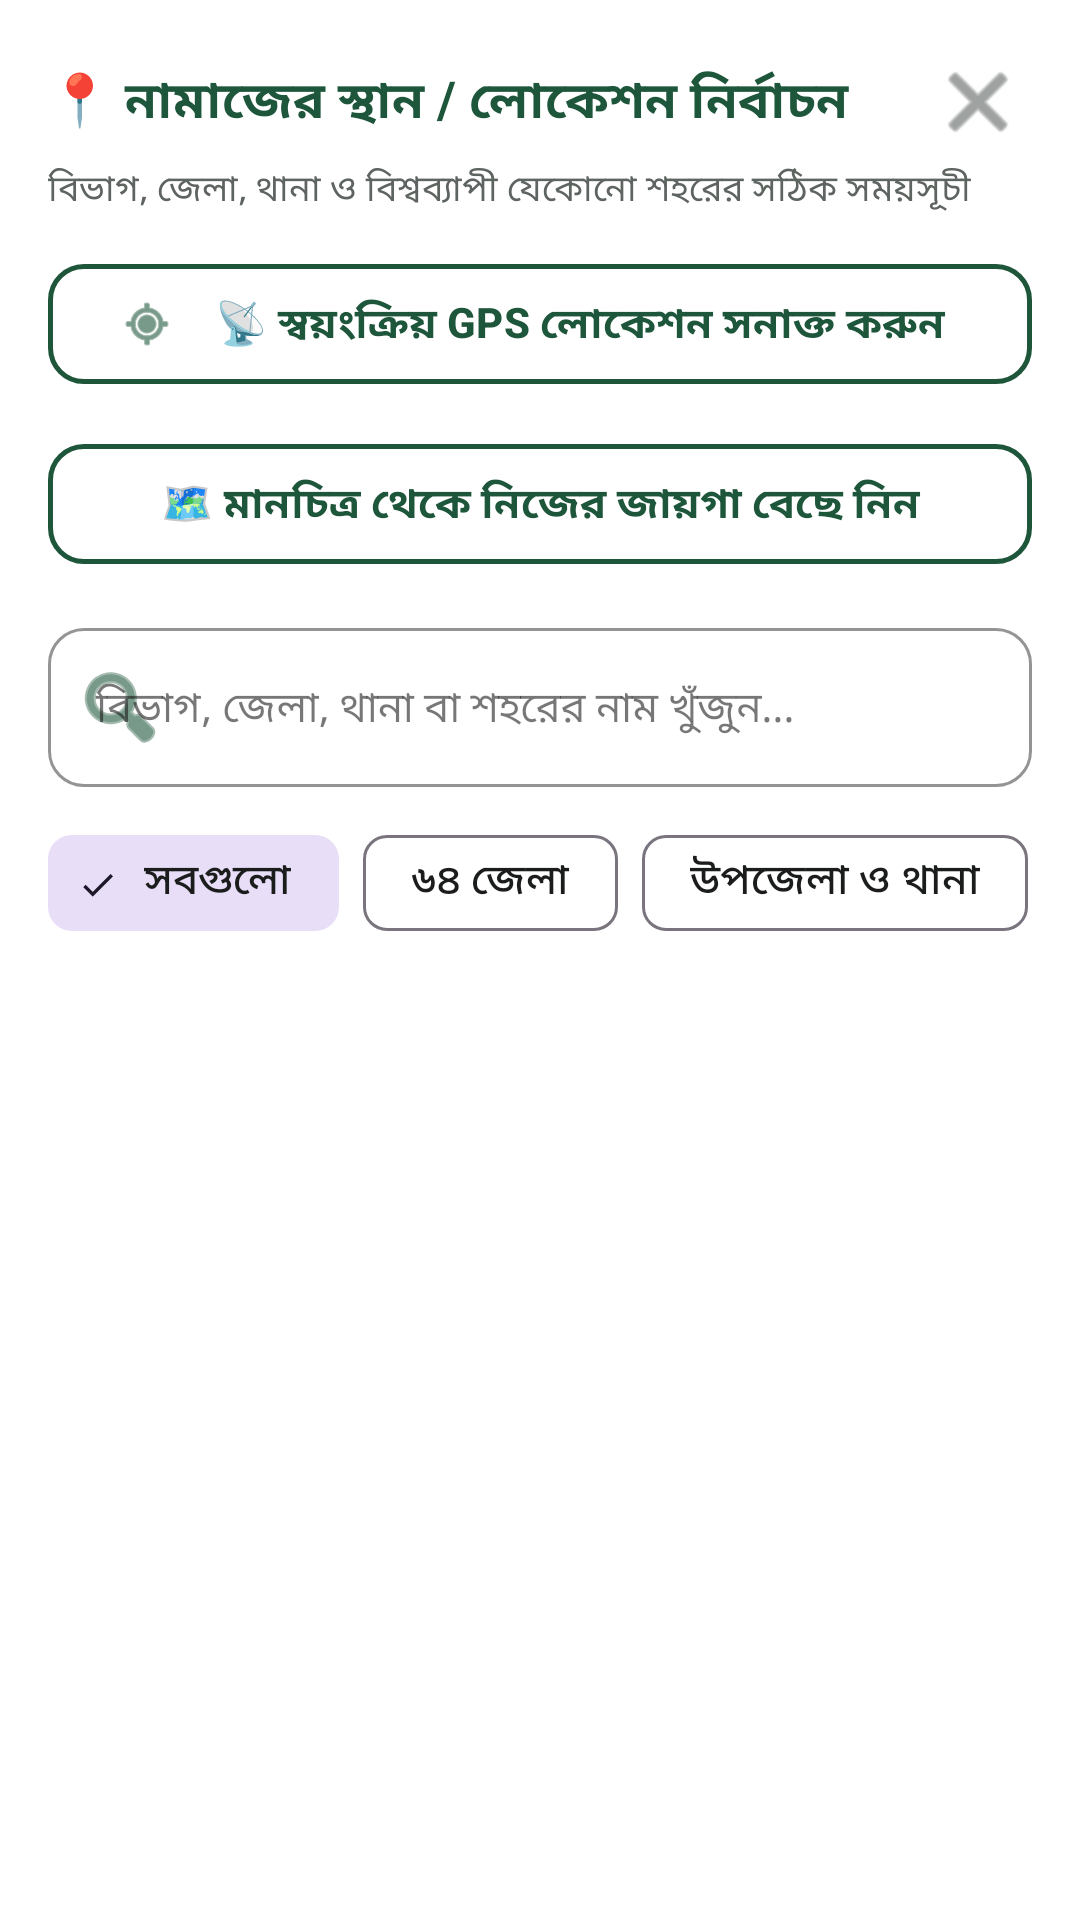

Named icons in this screenshot (1080*1920) and their bounding boxes, (x1, y1, x2, y2):
Close: (948, 72, 1008, 132)
